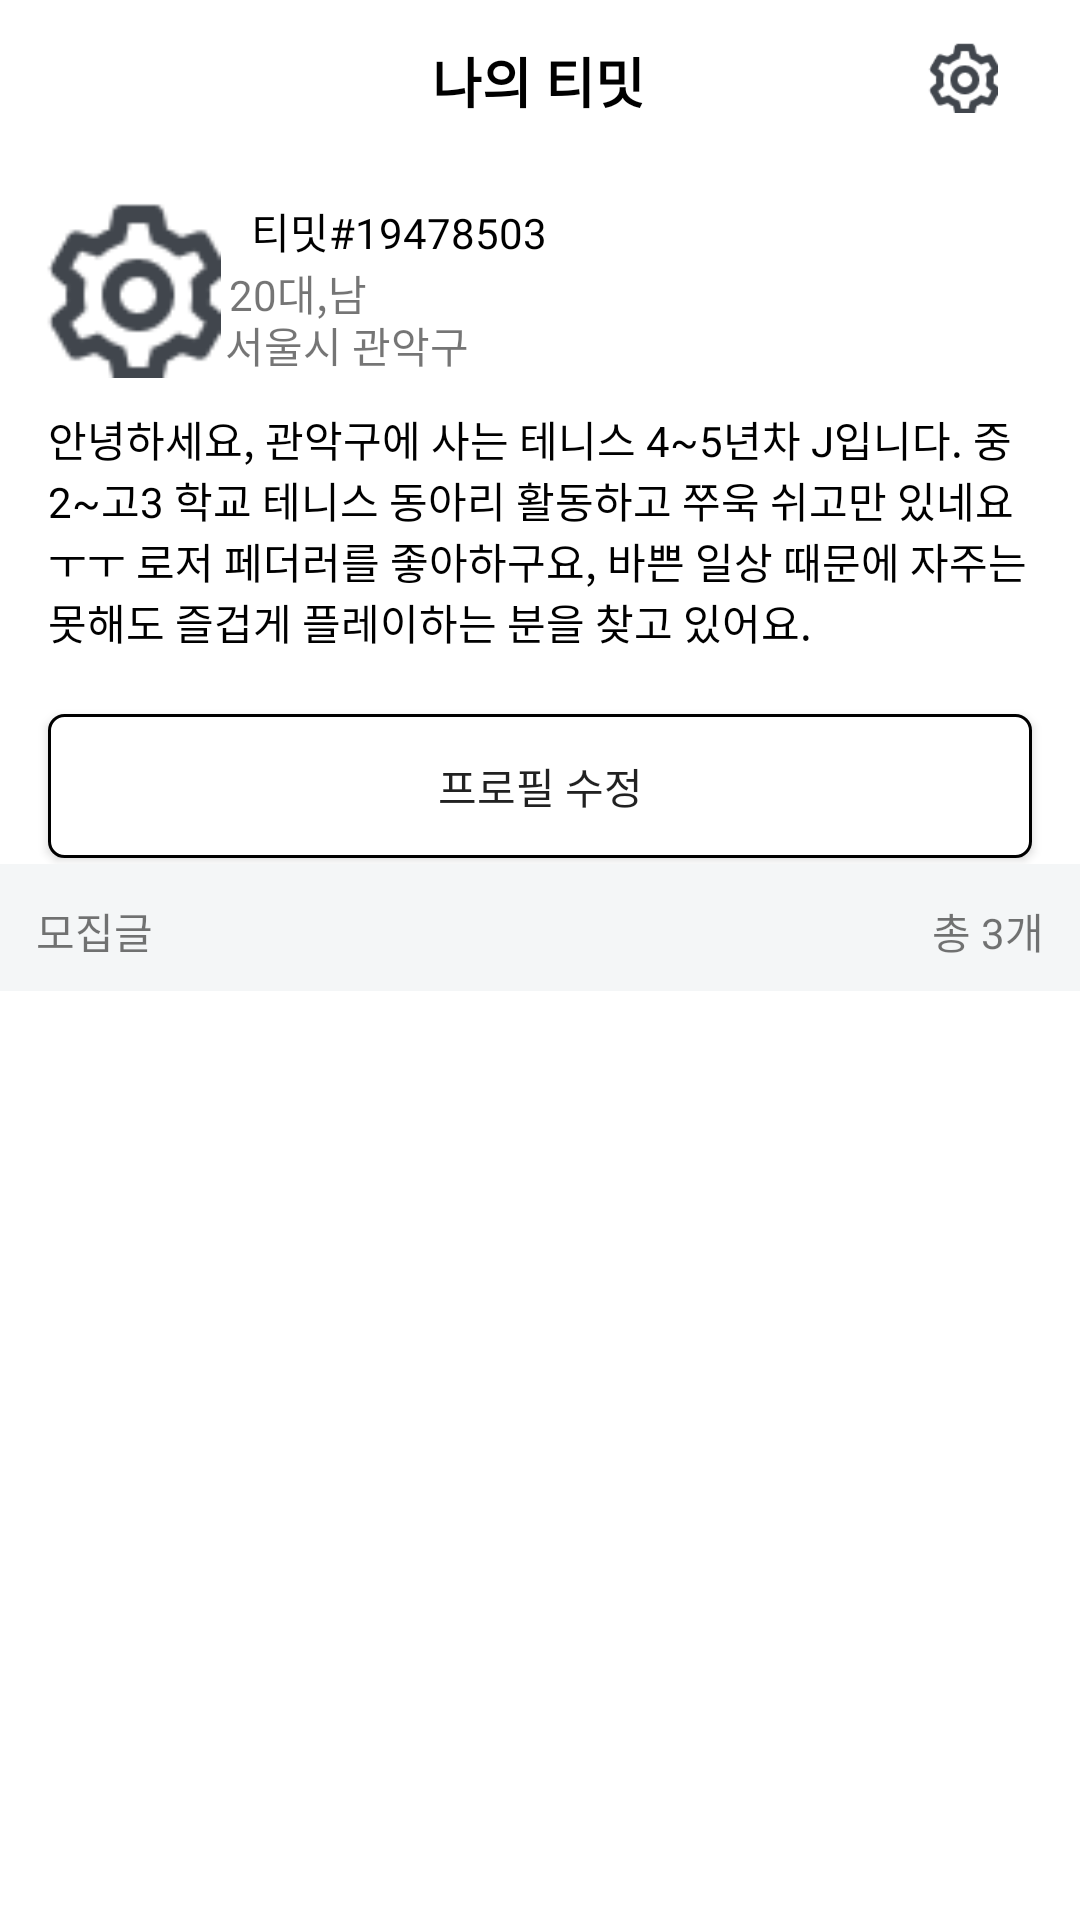

Where to tap for icons on this 1080 x 1920 app screen, as [x,y]:
setting iv: [963,78], [134,291]
